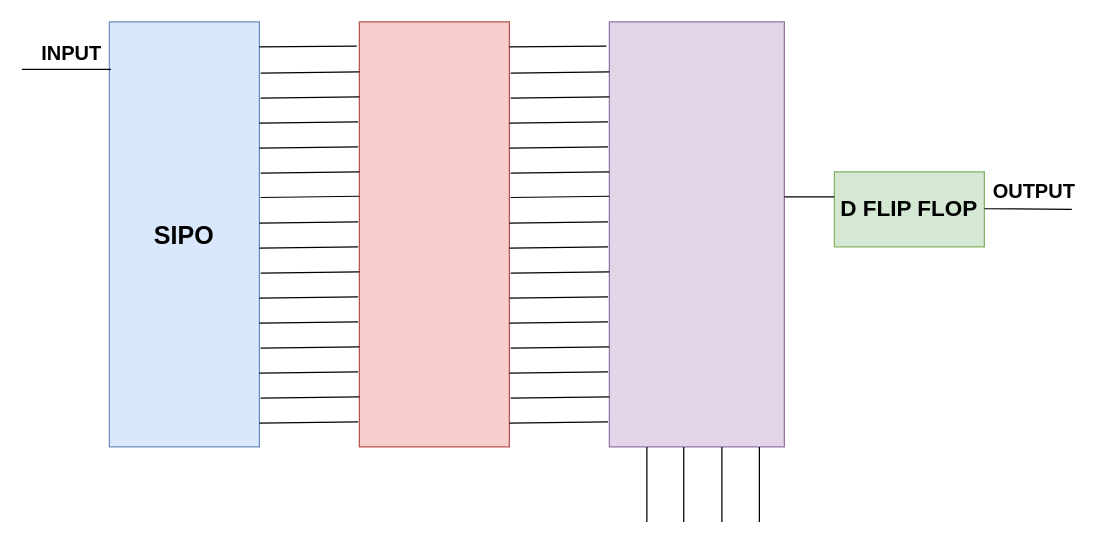
Some shapes in this 1098 by 545 pixel diagram are drawn without their labels. Here are the shapes that lost their labels. From the top down, the centre of each, then its label:
(433,234): 6T SRAM ARRAY
(696,234): 16X1 LUT
